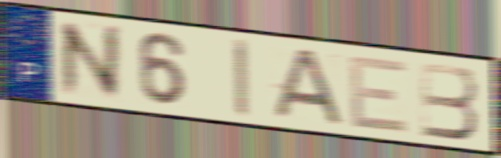6: (137, 32, 189, 108)
A: (266, 48, 348, 129)
B: (417, 60, 481, 142)
E: (345, 53, 411, 136)
I: (231, 37, 252, 120)
N: (55, 19, 126, 101)
